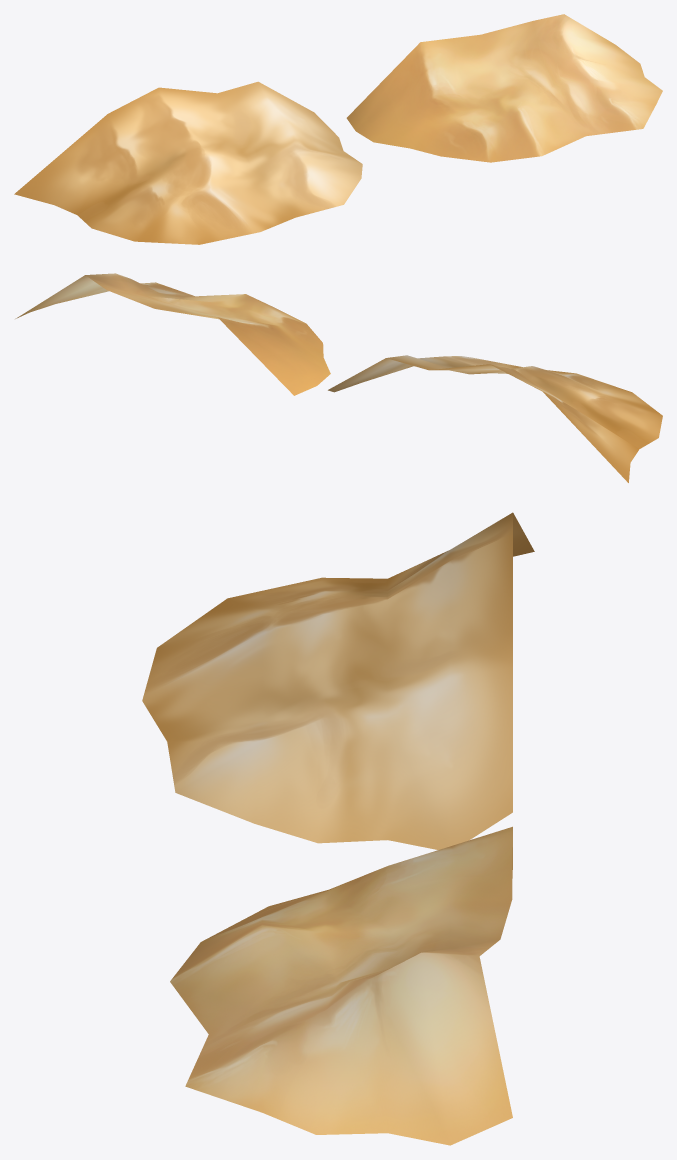
File: Dunas.FBX
The picture shows the model from 3 angles, top to bottom: view 1: azimuth 30°, elevation 25°; view 2: azimuth 150°, elevation 25°; view 3: azimuth 270°, elevation 25°; orthographic projection. The views are drawn at different scales.
Visible parts, largest first — view 1: Duna, Duna001; view 2: Duna001, Duna; view 3: Duna, Duna001.
Part boxes in pixels (x1,y1,x2,y2): Duna: [14, 81, 362, 244]; Duna001: [346, 14, 662, 162]; Duna001: [15, 273, 330, 395]; Duna: [328, 355, 662, 482]; Duna: [142, 512, 534, 849]; Duna001: [170, 826, 512, 1145].
Size of the model in its own units: 266 by 33.76 by 74.71.
2 materials, 2 textured.
